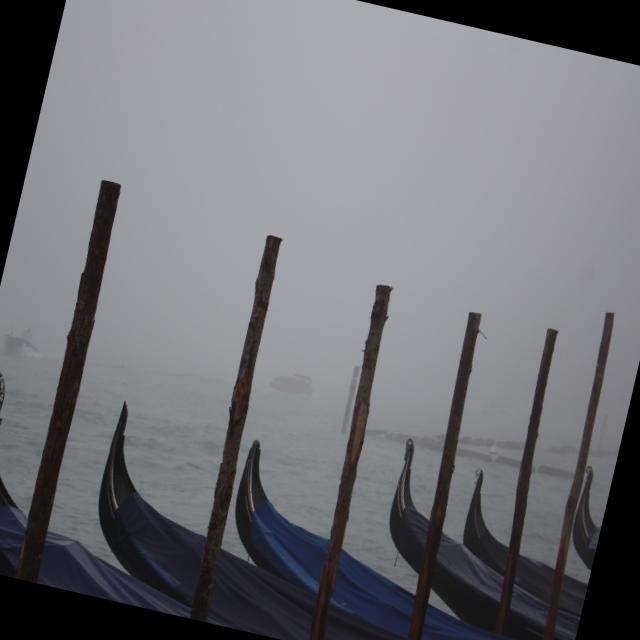boat: (70, 395, 473, 640), (201, 406, 609, 640), (0, 366, 258, 624), (364, 420, 614, 640), (444, 436, 614, 624)
